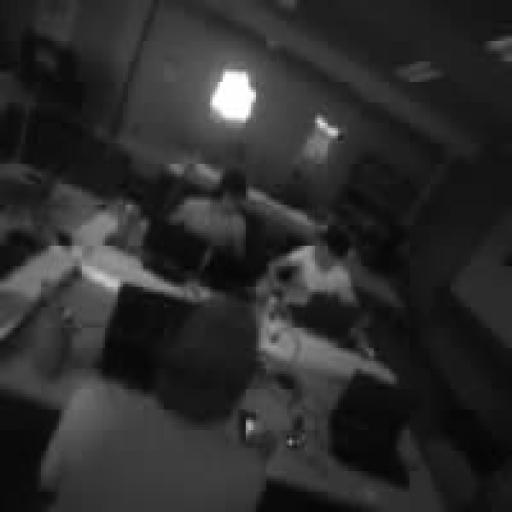human: (41, 297, 263, 511), (267, 223, 358, 307), (169, 169, 248, 258), (0, 154, 50, 188)
